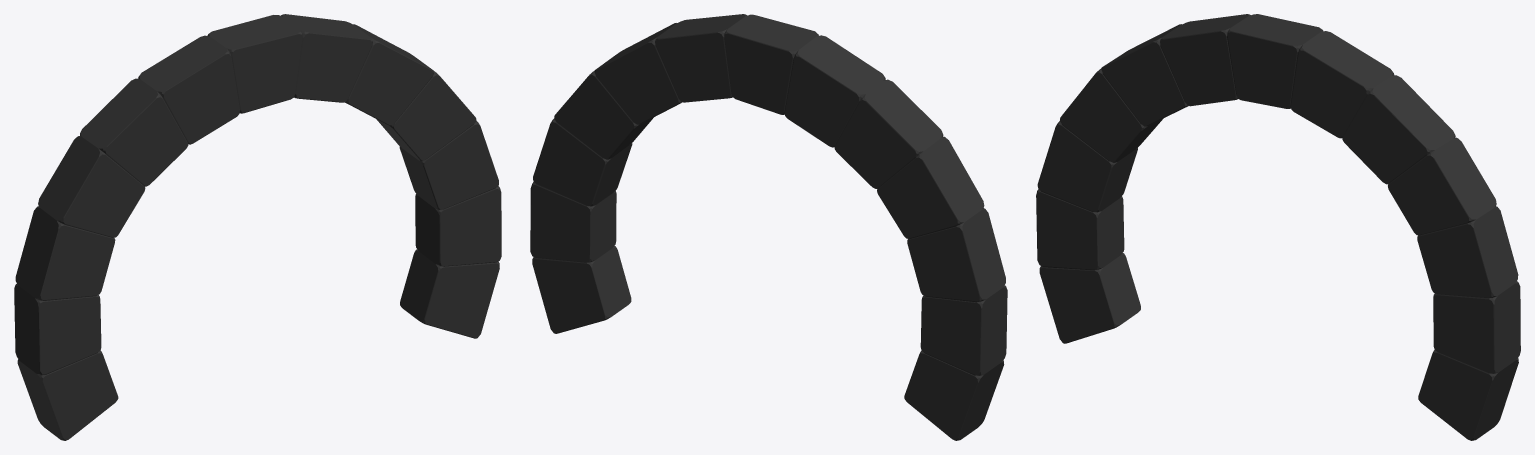
File: Arc_01.fbx
3 views of the same model, side by side, from view 1: azimuth 30°, elevation 25°; view 2: azimuth 150°, elevation 25°; view 3: azimuth 330°, elevation 25° (orthographic).
Visible parts, largest first — view 1: Arc_01; view 2: Arc_01; view 3: Arc_01.
Boxes of the visible parts, box(x1,y1,x2,y2) form: Arc_01: box(14, 14, 501, 440); Arc_01: box(530, 14, 1007, 440); Arc_01: box(1036, 14, 1520, 440).
Size of the model in its own units: 1109 by 818 by 124.
